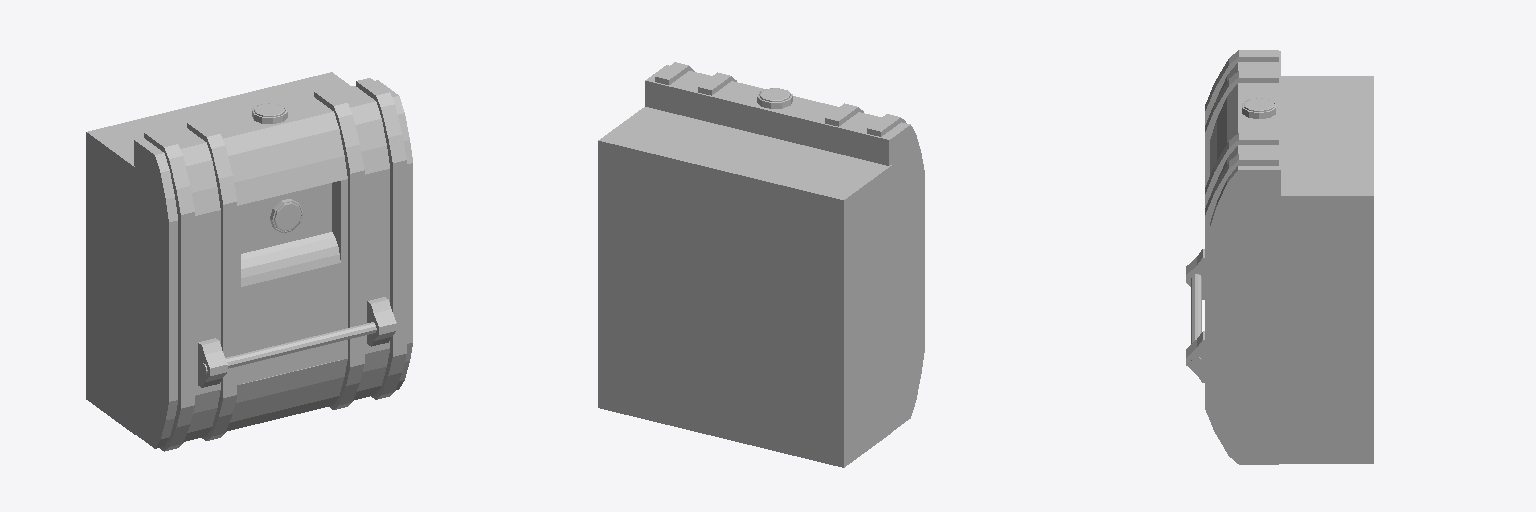
The model's file is FireAlarm.obj.
3 views of the same model, side by side, from view 1: azimuth 30°, elevation 25°; view 2: azimuth 150°, elevation 25°; view 3: azimuth 270°, elevation 25° (orthographic).
Parts seen in each view (by area): view 1: atlasing.003; view 2: atlasing.003; view 3: atlasing.003.
Part boxes in pixels (bbox=[...]): atlasing.003: bbox=[86, 72, 412, 451]; atlasing.003: bbox=[598, 62, 924, 467]; atlasing.003: bbox=[1186, 50, 1373, 464].
Bounding box in the file's own units: 0.0896 × 0.1069 × 0.0592.